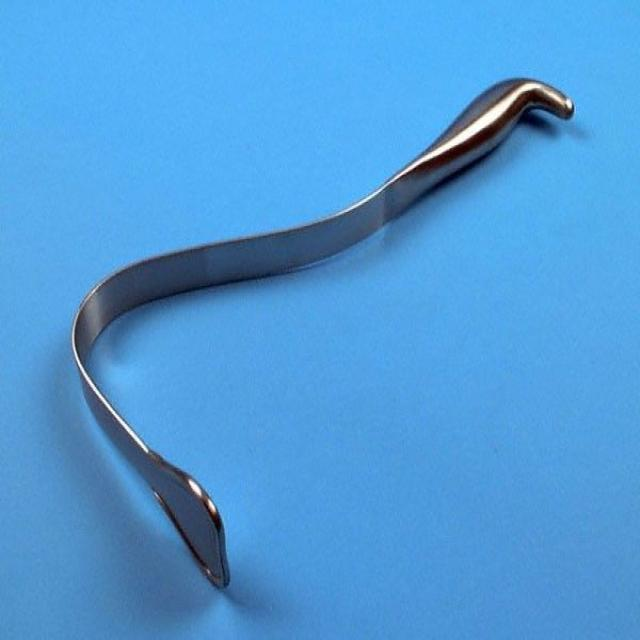Hrrington retractor: (63, 63, 580, 594)
